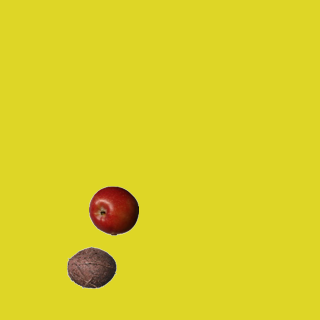Apple Braeburn: (88, 185, 138, 235)
Cocos: (66, 242, 116, 292)
